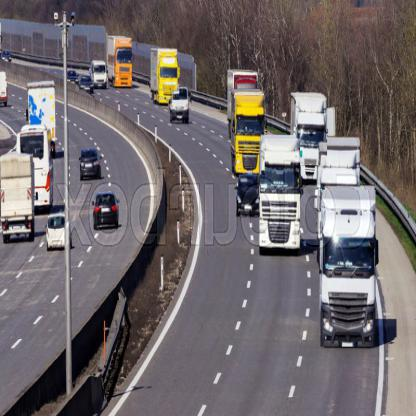bus: (18, 129, 52, 165)
car: (239, 170, 261, 219), (95, 193, 119, 233), (48, 209, 70, 251), (82, 147, 104, 180), (173, 89, 192, 126), (95, 58, 106, 91), (80, 75, 91, 91)
truck: (320, 191, 376, 349), (260, 140, 301, 252), (2, 150, 36, 246), (296, 90, 328, 167), (237, 96, 266, 177), (317, 138, 361, 190), (150, 50, 180, 102), (30, 81, 57, 129), (109, 37, 133, 89)
